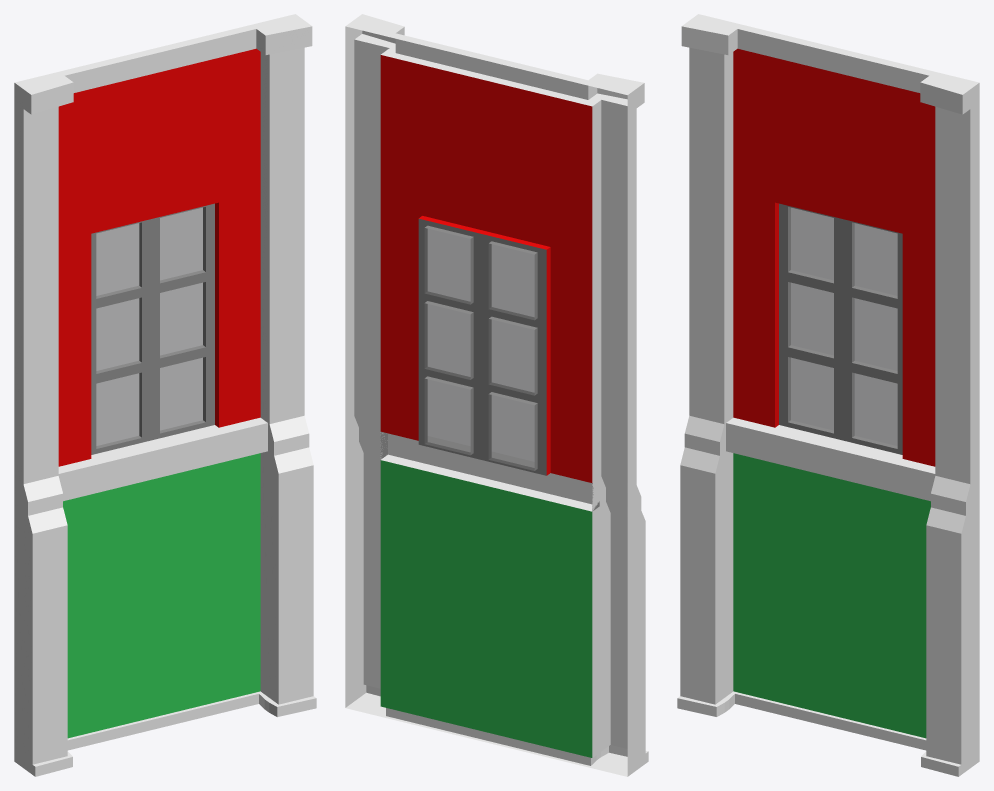
File: Wall with Window.FBX
3 views of the same model, side by side, from view 1: azimuth 30°, elevation 25°; view 2: azimuth 150°, elevation 25°; view 3: azimuth 330°, elevation 25° (orthographic).
Visible parts, largest first — view 1: Window Wall; view 2: Window Wall; view 3: Window Wall.
Boxes of the visible parts, x1,y1,x2,y2 form: Window Wall: (14,14,316,776); Window Wall: (345,14,648,776); Window Wall: (677,14,979,776).
Bounding box in the file's own units: 52 × 120 × 8.91.
